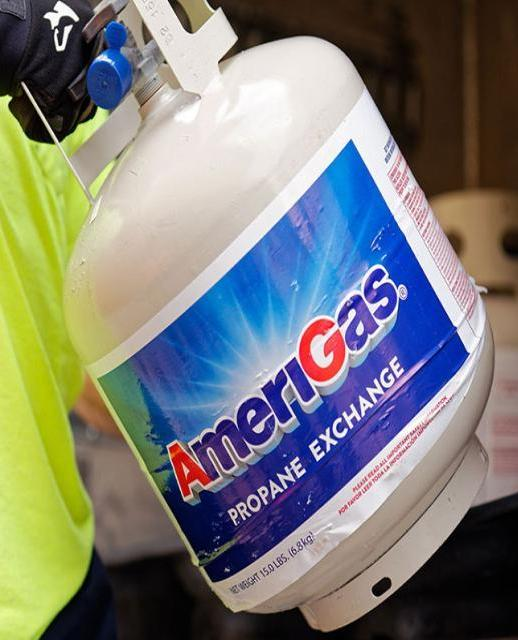cylinder: (1, 0, 518, 640)
